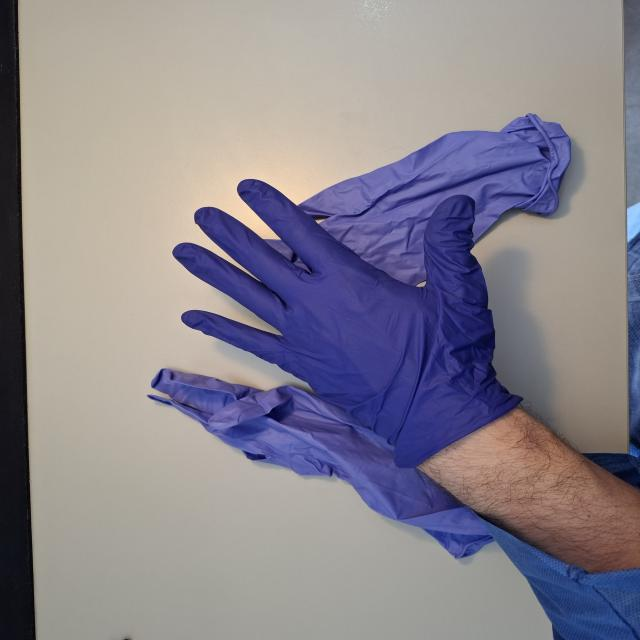glove_on: (170, 177, 515, 463)
